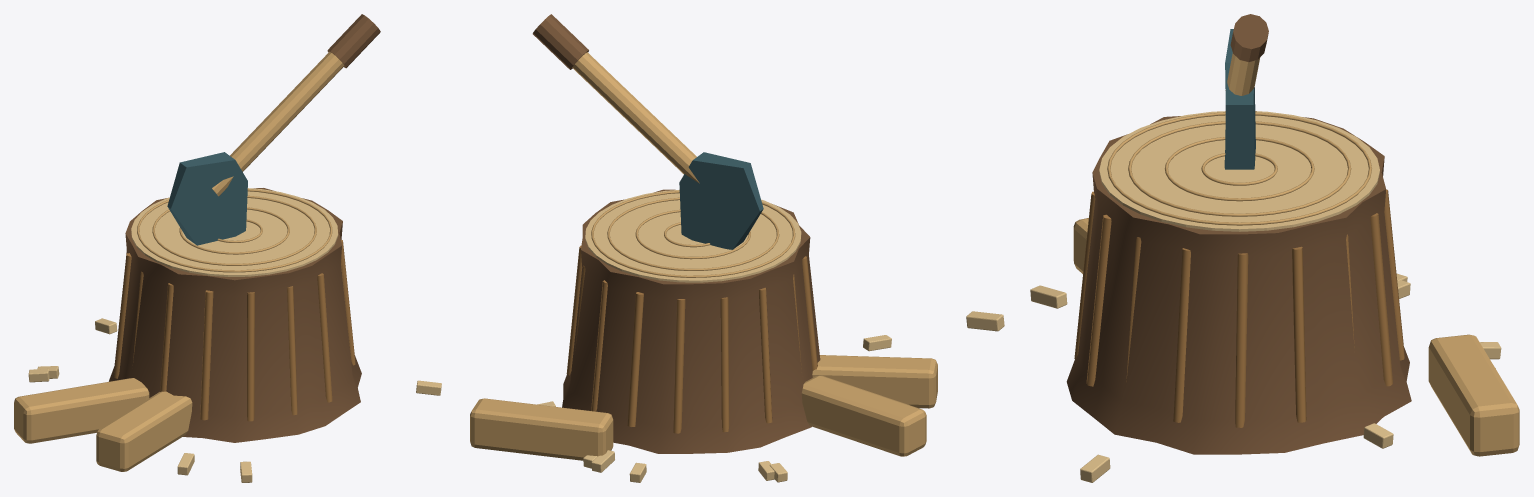
File: SM_ChoppingStump.fbx
3 views of the same model, side by side, from view 1: azimuth 30°, elevation 25°; view 2: azimuth 150°, elevation 25°; view 3: azimuth 270°, elevation 25° (orthographic). The views are drawn at different scales.
Visible parts, largest first — view 1: SM_ChoppingStump; view 2: SM_ChoppingStump; view 3: SM_ChoppingStump.
Part boxes in pixels (x1,y1,x2,y2): SM_ChoppingStump: (14,14,441,482); SM_ChoppingStump: (470,14,937,482); SM_ChoppingStump: (966,14,1519,482).
Bounding box in the file's own units: 1.57 × 1.51 × 1.38.
